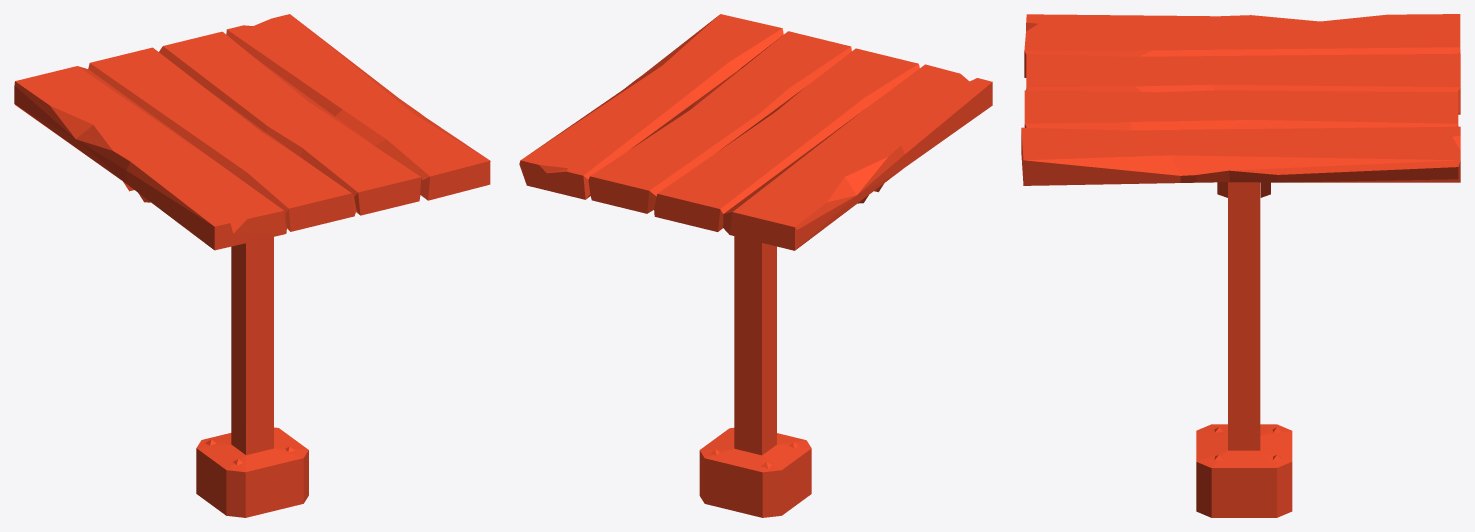
The model's file is SM_Table_D_City.fbx.
3 views of the same model, side by side, from view 1: azimuth 30°, elevation 25°; view 2: azimuth 150°, elevation 25°; view 3: azimuth 270°, elevation 25° (orthographic). The views are drawn at different scales.
Visible parts, largest first — view 1: SM_Table_D_City; view 2: SM_Table_D_City; view 3: SM_Table_D_City.
Boxes of the visible parts, <box> form: SM_Table_D_City: <box>14,14,490,517</box>; SM_Table_D_City: <box>519,14,992,517</box>; SM_Table_D_City: <box>1021,14,1460,517</box>.
Size of the model in its own units: 0.7853 by 0.9917 by 0.9669.
